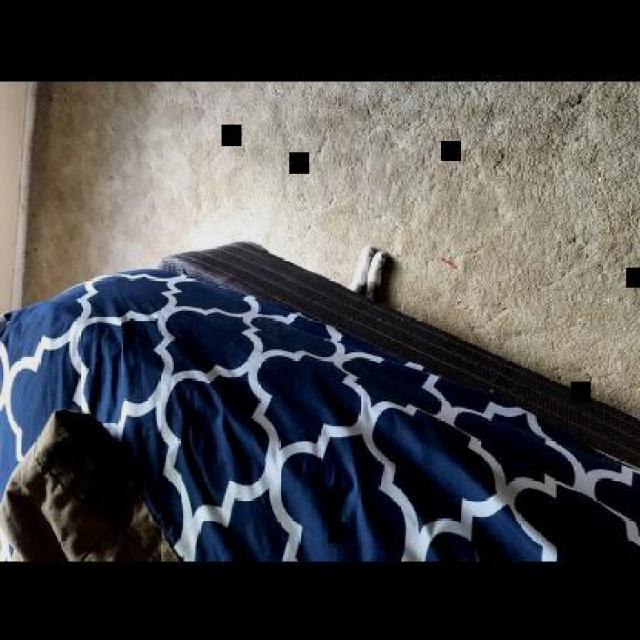unauthorized: (0, 406, 182, 563)
